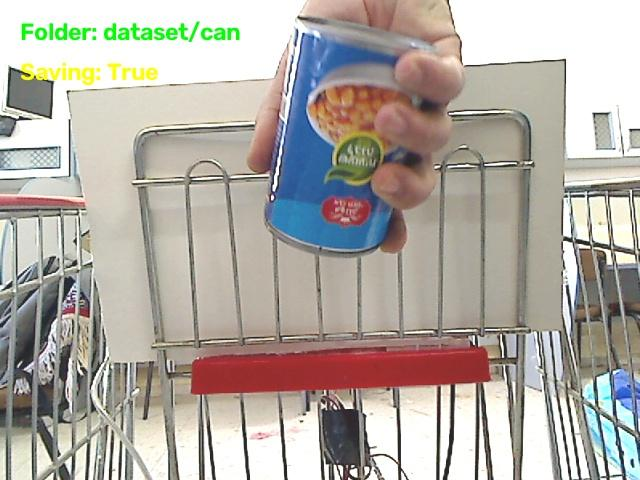can: (265, 17, 433, 255)
